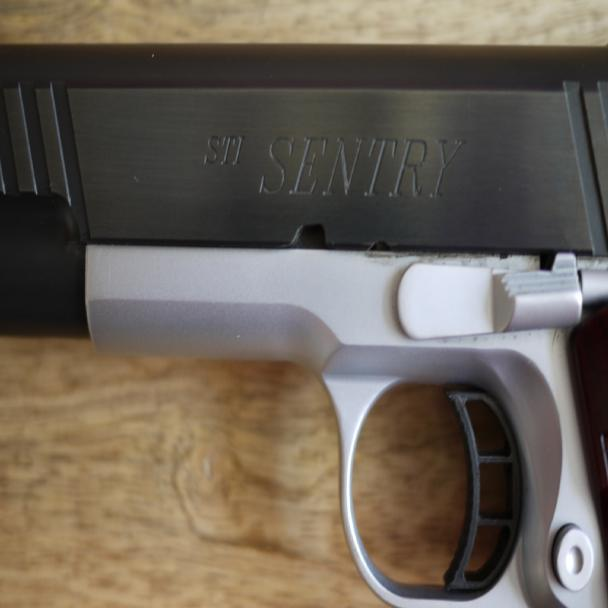Gun: (0, 15, 607, 607)
